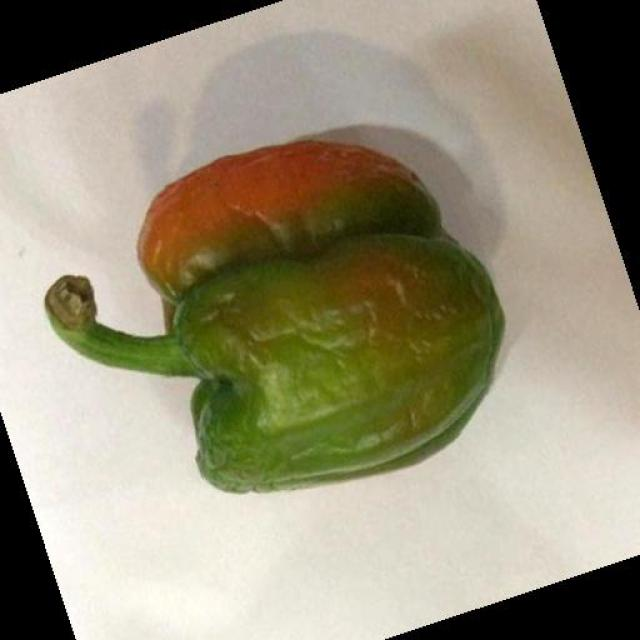Stale_Capsicum: (43, 143, 505, 445)
